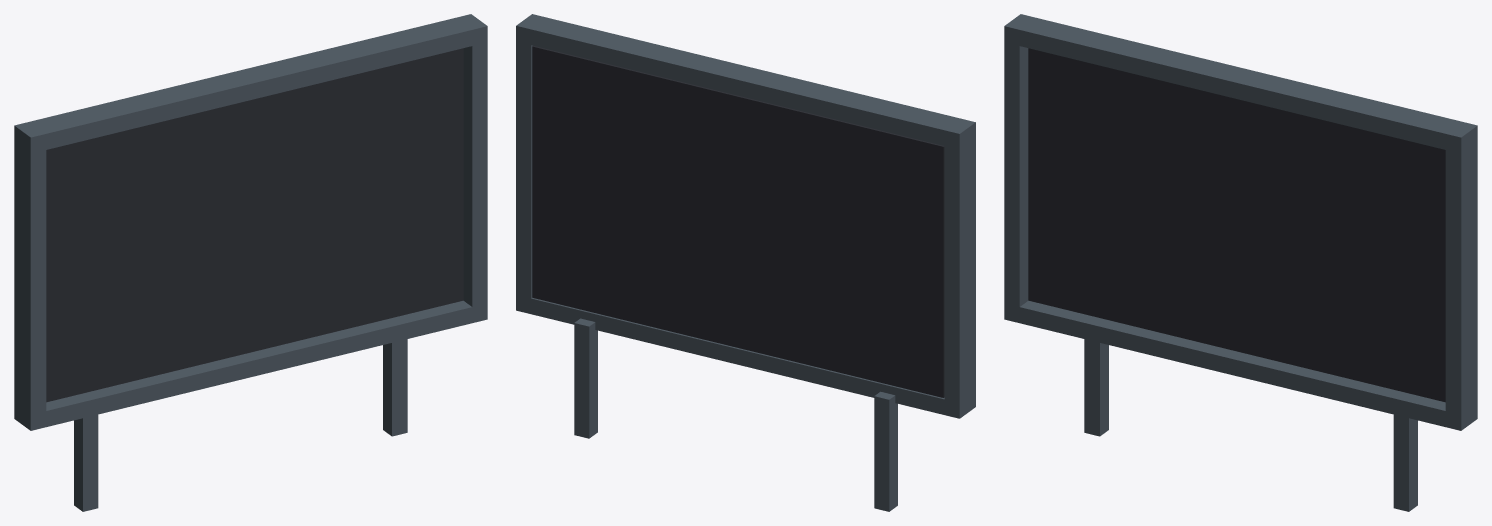
File: neon_sign_frame.glb
3 renders of one model, left to right at view 1: azimuth 30°, elevation 25°; view 2: azimuth 150°, elevation 25°; view 3: azimuth 330°, elevation 25°, orthographic. The views are drawn at different scales.
Visible parts, largest first — view 1: BlankPanel, FrameEdge.001, FrameEdge, FrameSide, FrameSide.001, Support.001, Support; view 2: BlankPanel, FrameEdge.001, FrameSide, FrameEdge, FrameSide.001, Support.001, Support; view 3: BlankPanel, FrameEdge.001, FrameEdge, FrameSide.001, FrameSide, Support, Support.001.
Boxes of the visible parts, x1,y1,x2,y2 form: BlankPanel: (46,48,463,402); FrameEdge.001: (14,14,487,153); FrameEdge: (14,300,487,430); FrameSide: (14,134,46,422); FrameSide.001: (463,42,487,312); Support.001: (383,339,407,436); Support: (74,414,98,511); BlankPanel: (532,45,944,397); FrameEdge.001: (516,14,975,149); FrameSide: (944,132,975,410); FrameEdge: (516,295,975,418); FrameSide.001: (516,34,532,305); Support.001: (574,318,597,438); Support: (874,391,897,511); BlankPanel: (1028,48,1445,402); FrameEdge.001: (1004,14,1477,153); FrameEdge: (1004,300,1477,430); FrameSide.001: (1445,134,1477,421); FrameSide: (1004,35,1028,314); Support: (1084,339,1108,436); Support.001: (1393,414,1417,511).
Size of the model in its own units: 2.07 by 1.74 by 0.18.
1 material, 1 textured.
